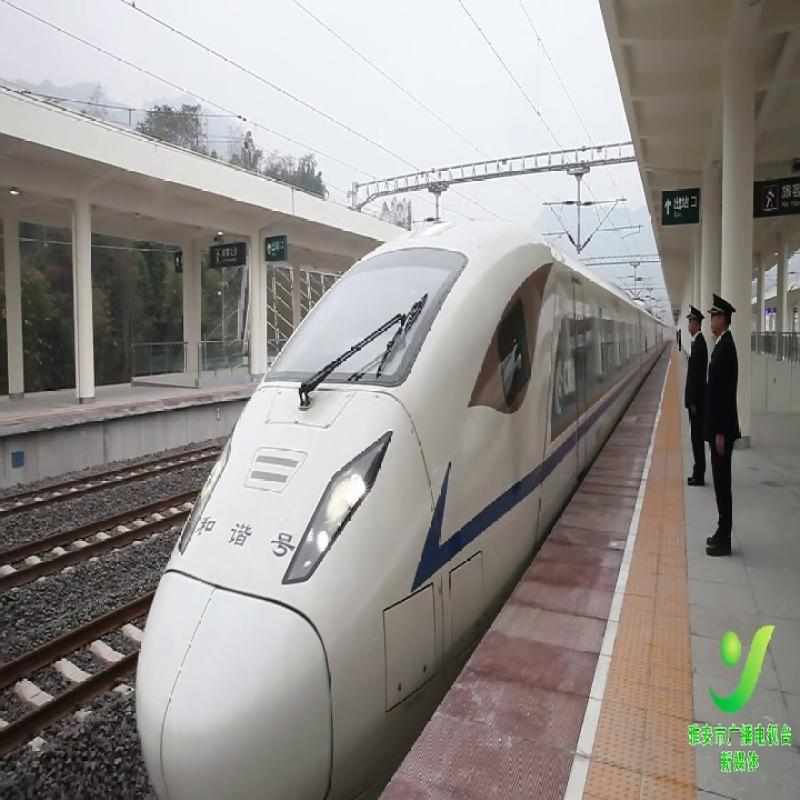train: (143, 252, 649, 800)
